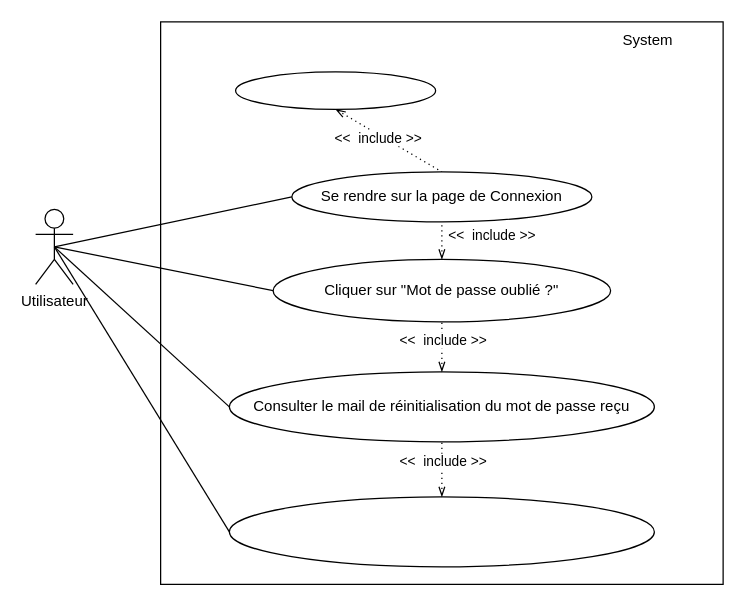
The diagram is 745 pixels wide and 606 high, and some of its shapes have lost their labels. The shapes that lost their labels are listed below. From the top down, each one's centre as x and y in pixels, then its label:
pixel 335 90: Inscription
pixel 441 531: Se rendre sur le lien reçu et changer de mot de passe
